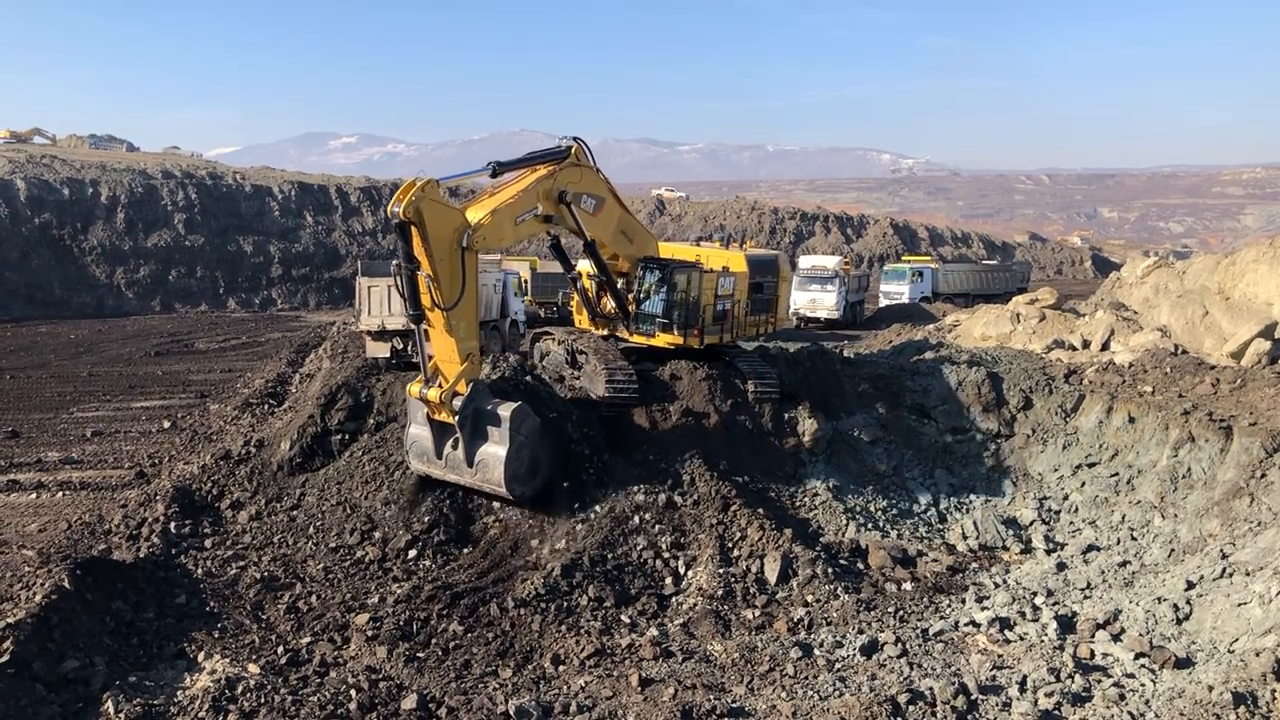full: (400, 366, 579, 498)
